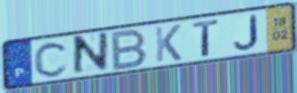B: (111, 27, 150, 72)
C: (33, 40, 71, 79)
J: (232, 13, 261, 52)
K: (153, 23, 184, 64)
N: (71, 30, 110, 78)
T: (191, 18, 222, 58)
